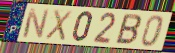0: (140, 14, 165, 48), (71, 10, 94, 43)
2: (92, 12, 117, 46)
B: (114, 13, 143, 46)
N: (21, 7, 51, 40)
X: (43, 8, 73, 42)
